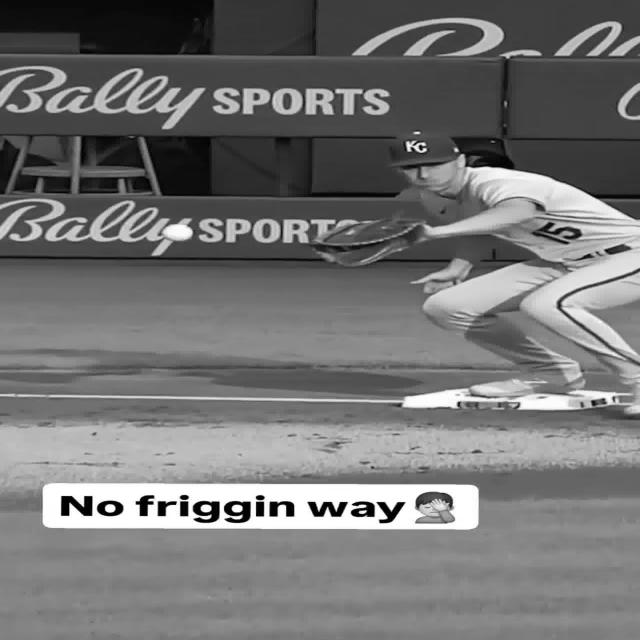base: (402, 388, 625, 410)
baseball: (162, 224, 193, 241)
baseball_glove: (311, 219, 425, 266)
shoe: (469, 369, 585, 398)
